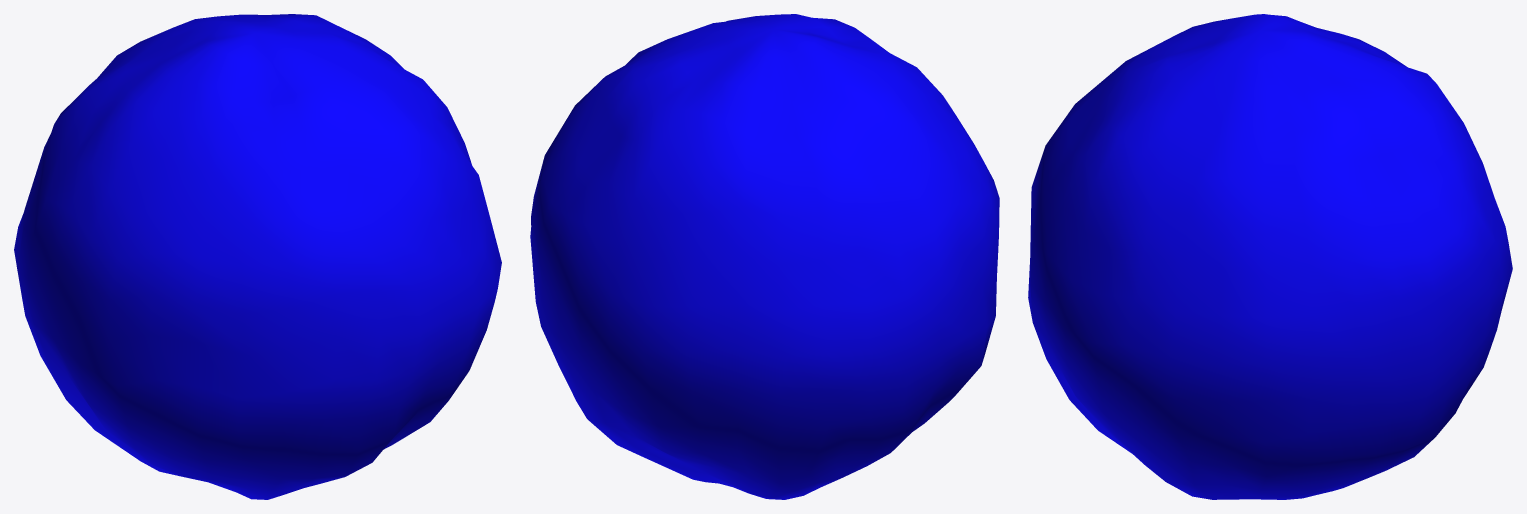
File: 06_SnowBall.fbx
The picture shows the model from 3 angles, left to right: view 1: azimuth 30°, elevation 25°; view 2: azimuth 150°, elevation 25°; view 3: azimuth 270°, elevation 25°; orthographic projection.
Parts seen in each view (by area): view 1: 06_SnowBall; view 2: 06_SnowBall; view 3: 06_SnowBall.
Part boxes in pixels (box(x1,y1,x2,y2)): 06_SnowBall: box(14, 14, 501, 499); 06_SnowBall: box(530, 14, 999, 499); 06_SnowBall: box(1028, 14, 1512, 499).
Bounding box in the file's own units: 20.1 × 20.3 × 20.09.
